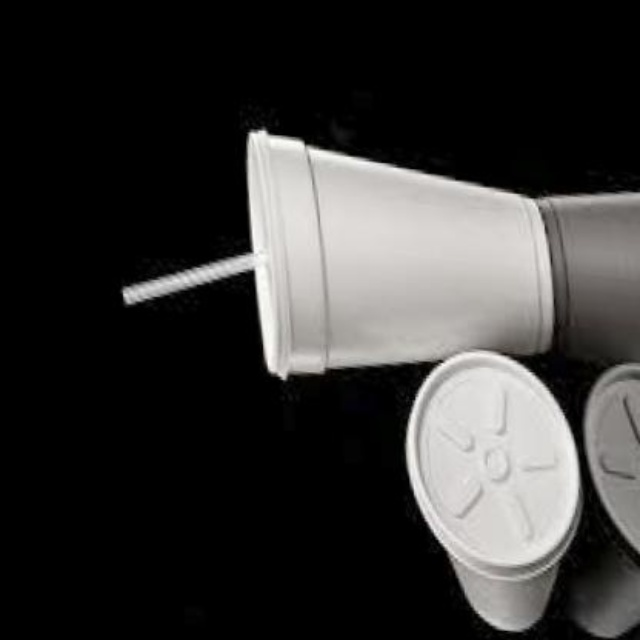trash: (248, 131, 638, 629), (406, 351, 578, 631), (585, 365, 638, 551)
